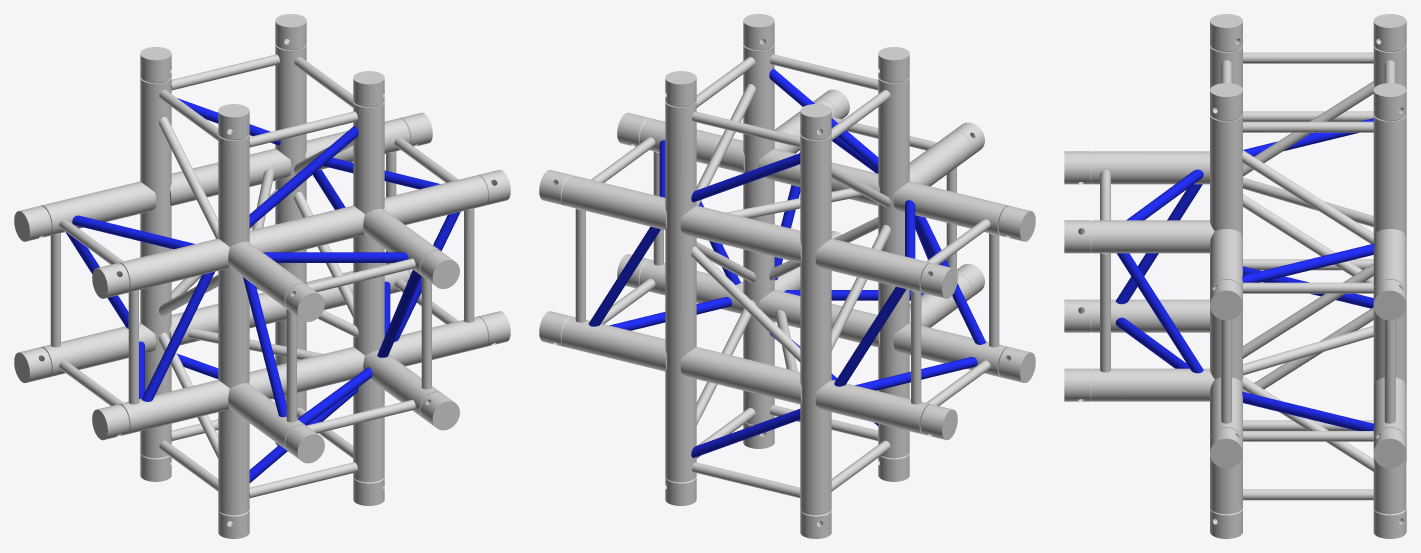
3 views of the same model, side by side, from view 1: azimuth 30°, elevation 25°; view 2: azimuth 150°, elevation 25°; view 3: azimuth 270°, elevation 25° (orthographic). The views are drawn at different scales.
Parts seen in each view (by area): view 1: 260028013; view 2: 260028013; view 3: 260028013.
Part boxes in pixels (box(x1,y1,x2,y2)): 260028013: box(14, 14, 510, 538); 260028013: box(539, 14, 1035, 538); 260028013: box(1064, 14, 1406, 538).
Size of the model in its own units: 0.713 by 0.713 by 0.5001.
